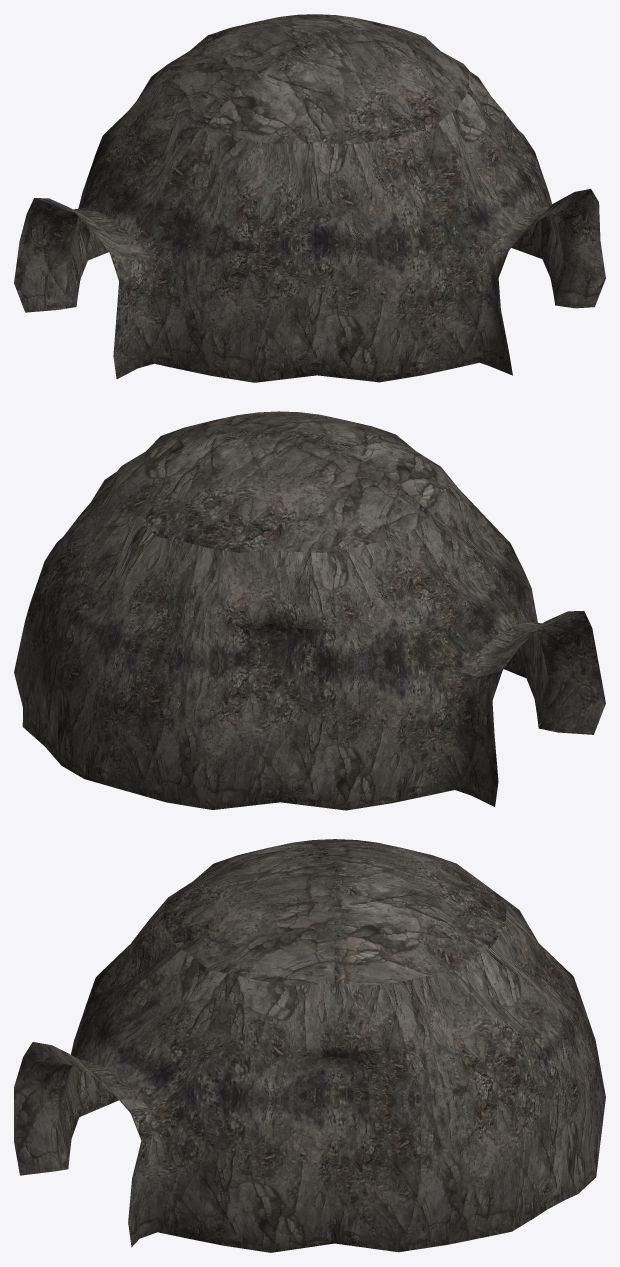
Rendered from DN_Cave_Hall.FBX.
The picture shows the model from 3 angles, top to bottom: view 1: azimuth 30°, elevation 25°; view 2: azimuth 150°, elevation 25°; view 3: azimuth 270°, elevation 25°; orthographic projection. The views are drawn at different scales.
Visible parts, largest first — view 1: DN_Cave_Hall; view 2: DN_Cave_Hall; view 3: DN_Cave_Hall.
Part boxes in pixels (box(x1,y1,x2,y2)): DN_Cave_Hall: box(14, 14, 605, 382); DN_Cave_Hall: box(14, 411, 605, 810); DN_Cave_Hall: box(14, 839, 605, 1252).
Bounding box in the file's own units: 31.25 × 16.55 × 31.4.
